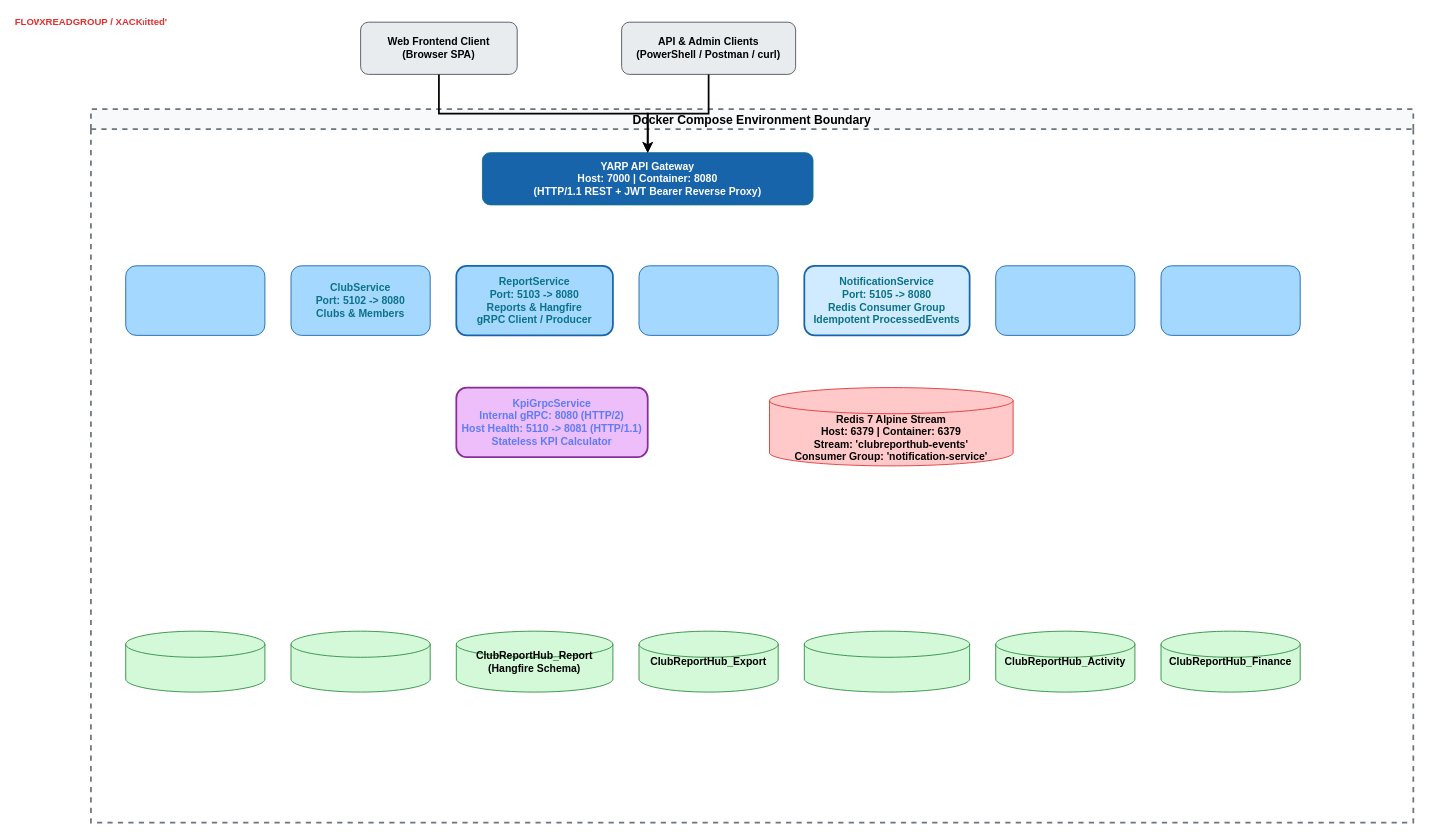
The diagram is 1429 pixels wide and 839 high, and some of its shapes have lost their labels. Here are the shapes that lost their labels. From the top down, the box of each, then its label:
(125, 265, 265, 335): AuthService Port: 5101 -> 8080 JWT & Roles
(638, 265, 778, 335): ExportService Port: 5104 -> 8080 PDF & Excel Export
(995, 265, 1135, 335): ActivityService Port: 5106 -> 8080 Club Activities
(1160, 265, 1300, 335): FinanceService Port: 5107 -> 8080 Budget & Settlements
(125, 630, 265, 692): ClubReportHub_Auth
(290, 630, 430, 692): ClubReportHub_Club
(803, 630, 970, 692): ClubReportHub_Notification
